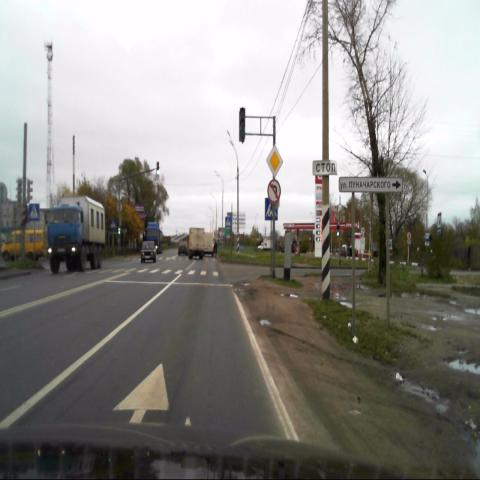3_18_2: (268, 180, 280, 203)
